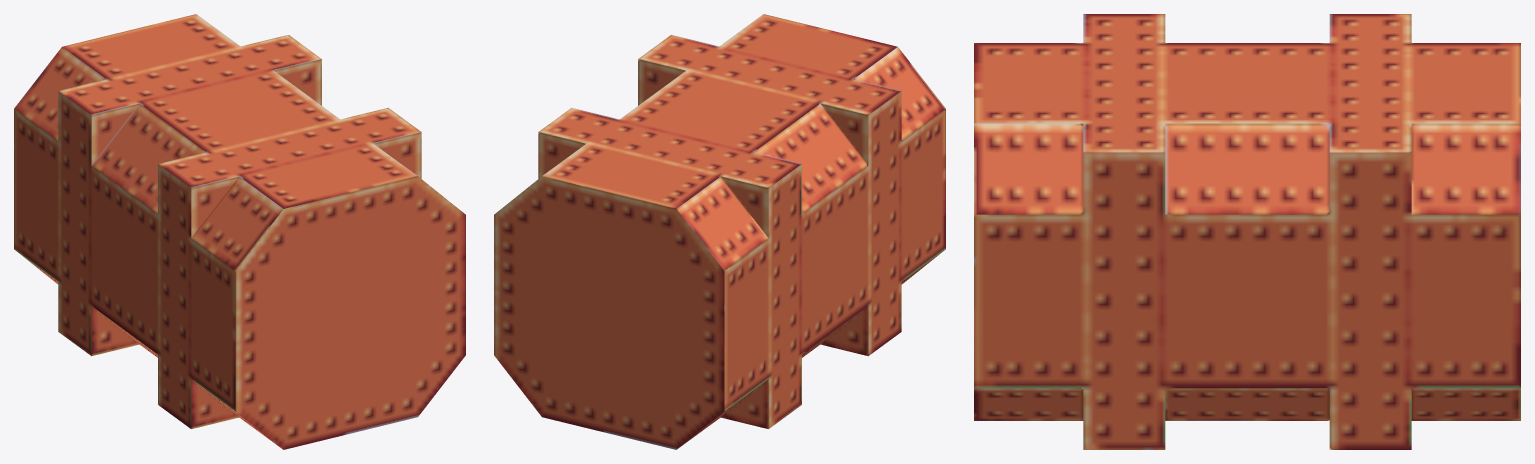
Rendered from copper_boiler_multiblock.obj.
3 renders of one model, left to right at view 1: azimuth 30°, elevation 25°; view 2: azimuth 150°, elevation 25°; view 3: azimuth 270°, elevation 25°, orthographic. The views are drawn at different scales.
Visible parts, largest first — view 1: cube; view 2: cube; view 3: cube.
Boxes of the visible parts, <box> form: cube: <box>14,14,465,449</box>; cube: <box>494,14,945,449</box>; cube: <box>974,14,1520,449</box>.
Size of the model in its own units: 3 by 3 by 5.
